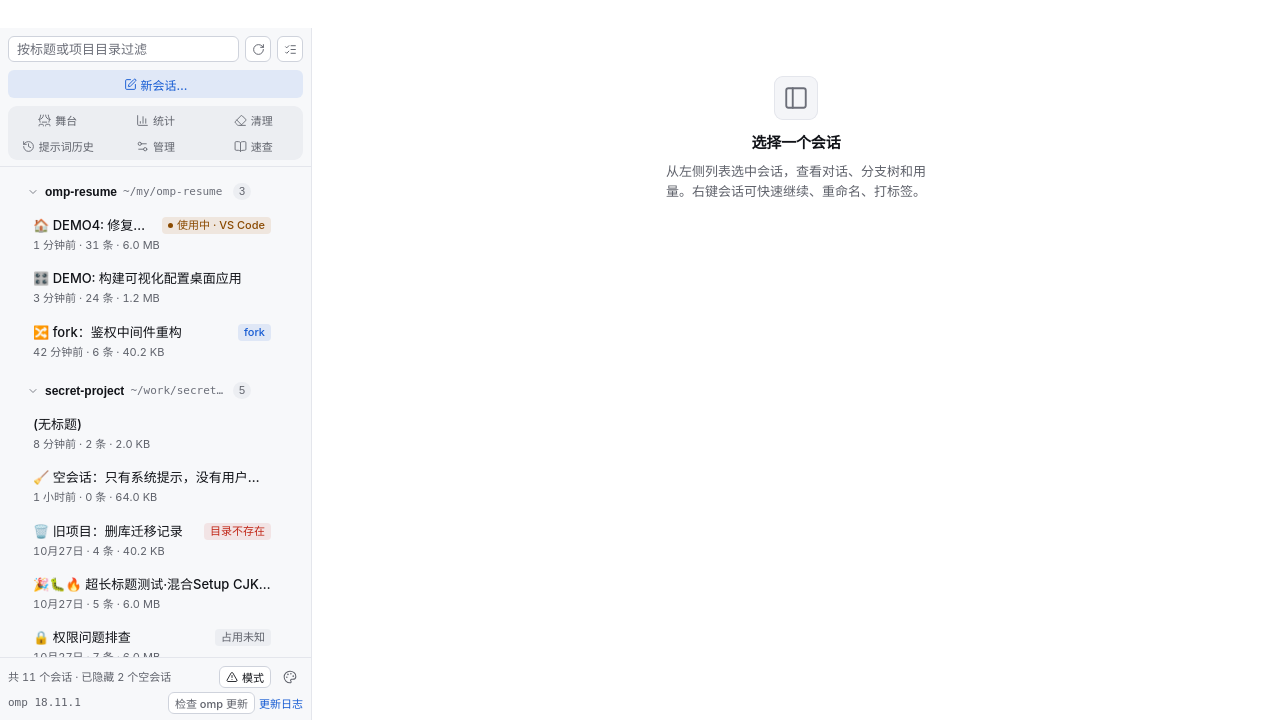
批量选择 › 取消组头勾选清空该组；过滤后只勾选可见会话
Expected: the text "🎛️ DEMO: 构建可视化配置桌面应用" is shown, [33,269,271,288]
Click the 1st checkbox labelled "omp-resume ~/my/omp-resume 3" at (156, 190), box [0,173,311,208]
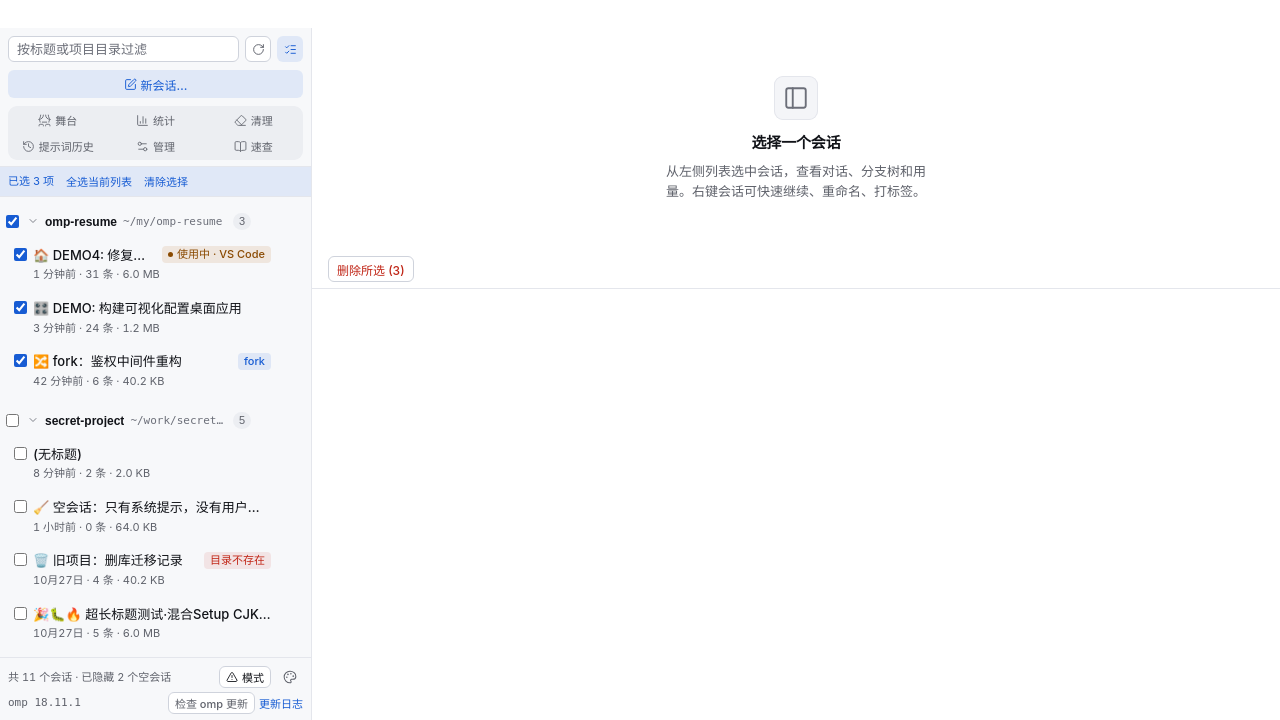
Click the checkbox named "选择项目 omp-resume 的全部会话" at (12, 221), box [6,214,19,228]
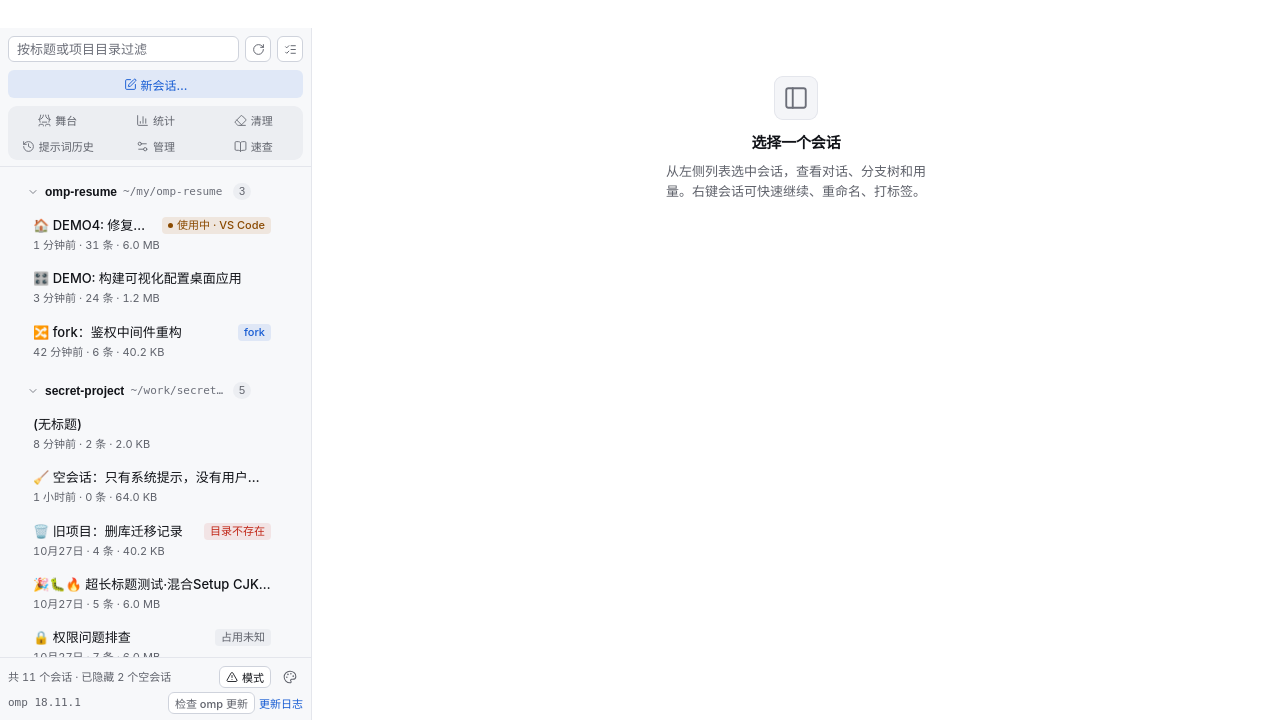
Result: the text "已选 3 项" is gone
Type "DEMO4" into the search field named "过滤会话" at (124, 49), box [8,36,239,62]
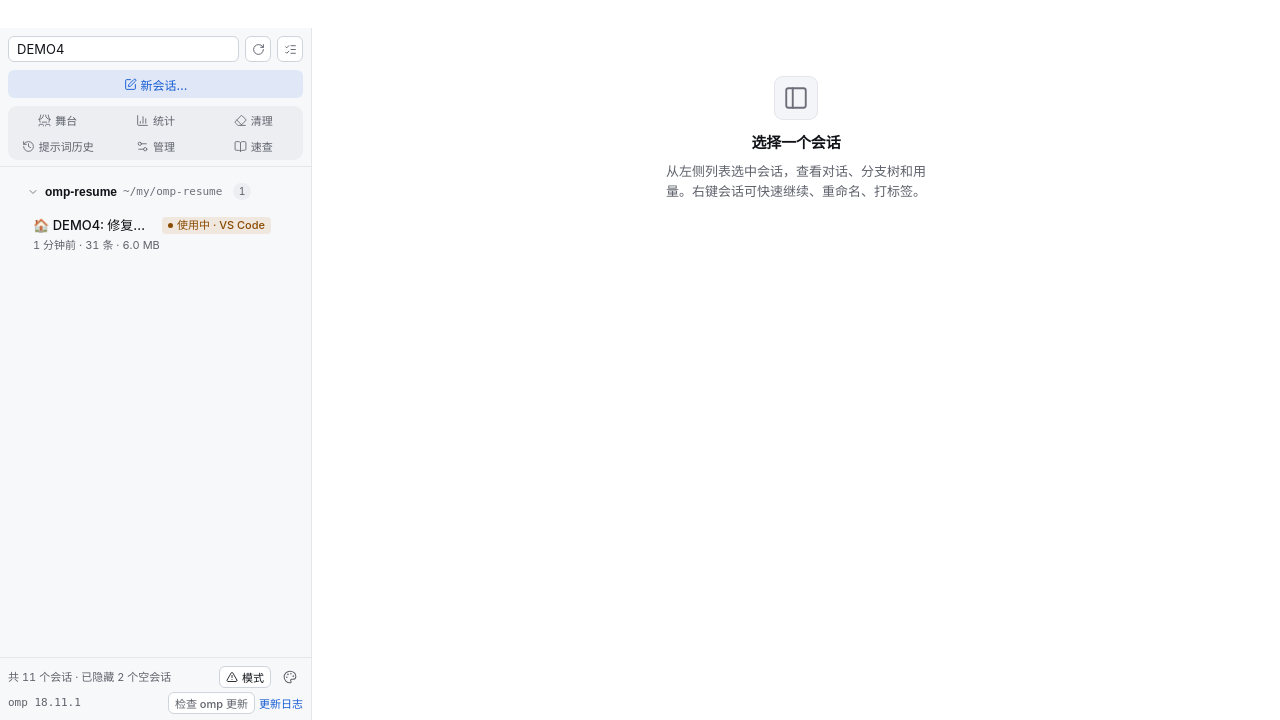
Click the 1st checkbox labelled "omp-resume ~/my/omp-resume 1" at (156, 190), box [0,173,311,208]
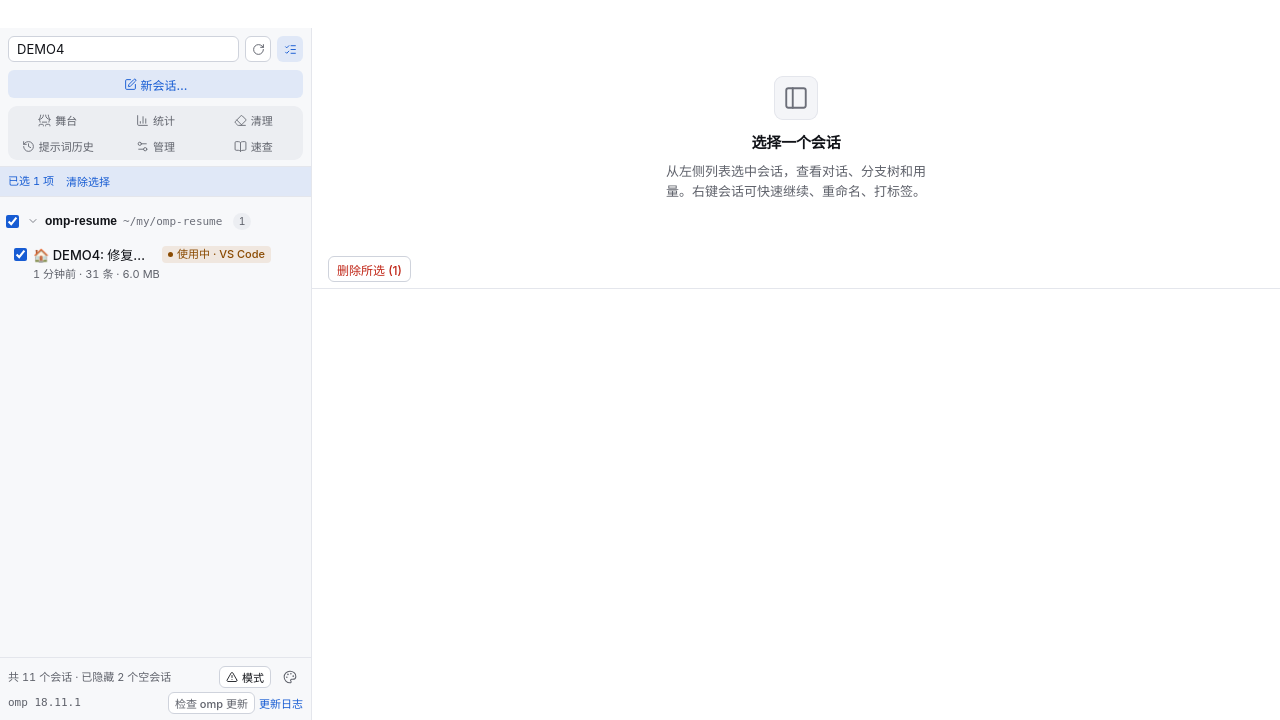
Result: the text "已选 1 项" is shown at [8,173,54,190]
